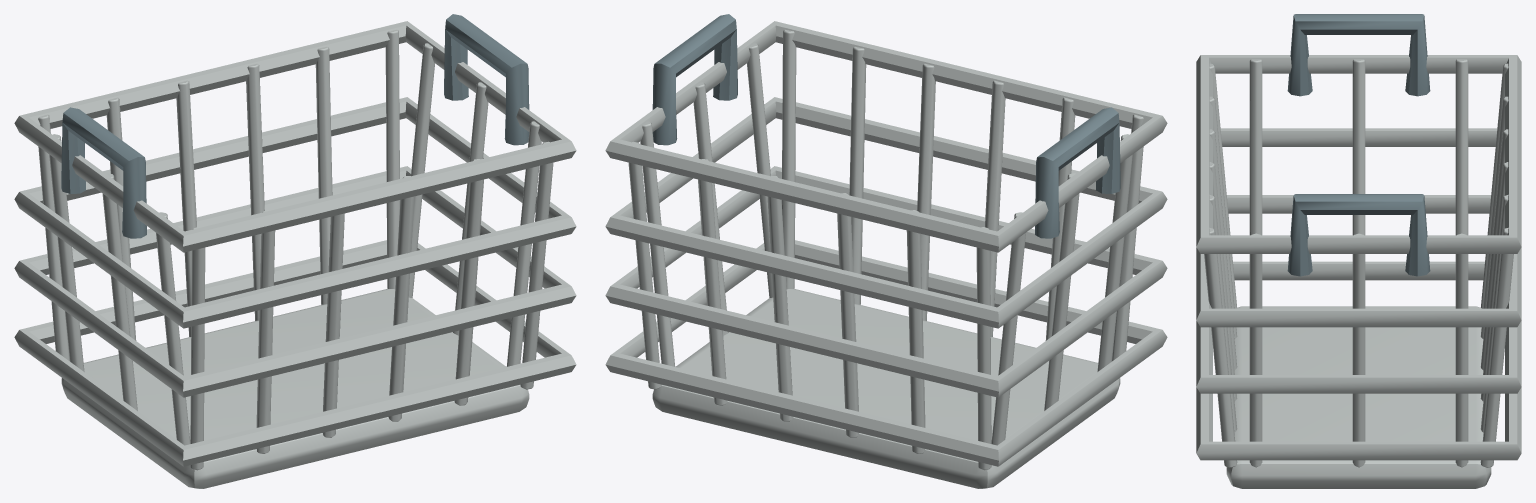
The model's file is laundry-basket.glb.
3 views of the same model, side by side, from view 1: azimuth 30°, elevation 25°; view 2: azimuth 150°, elevation 25°; view 3: azimuth 270°, elevation 25° (orthographic). The views are drawn at different scales.
Parts seen in each view (by area): view 1: basket_bottom, basket_horizontal_hoop.003, basket_horizontal_hoop.002, basket_horizontal_hoop, basket_horizontal_hoop.001, side_handle, side_handle.001, basket_upright.010, basket_upright.008, basket_upright.006, basket_upright.004, basket_end_upright.005 (+13 smaller); view 2: basket_bottom, basket_horizontal_hoop.003, basket_horizontal_hoop.002, basket_horizontal_hoop, basket_horizontal_hoop.001, side_handle, side_handle.001, basket_upright.011, basket_upright.009, basket_upright.007, basket_upright.005, basket_end_upright.001 (+13 smaller); view 3: basket_bottom, basket_horizontal_hoop.003, basket_horizontal_hoop.002, basket_horizontal_hoop, basket_horizontal_hoop.001, side_handle.001, side_handle, basket_end_upright, basket_end_upright.004, basket_upright.010, basket_upright.011, basket_end_upright.001 (+13 smaller).
Part boxes in pixels (bbox=[...]): basket_bottom: bbox=[61, 289, 529, 488]; basket_horizontal_hoop.003: bbox=[14, 21, 576, 252]; basket_horizontal_hoop.002: bbox=[14, 97, 576, 328]; basket_horizontal_hoop: bbox=[14, 240, 576, 466]; basket_horizontal_hoop.001: bbox=[14, 166, 576, 397]; side_handle: bbox=[61, 107, 146, 238]; side_handle.001: bbox=[444, 14, 529, 145]; basket_upright.010: bbox=[385, 29, 400, 289]; basket_upright.008: bbox=[315, 46, 332, 304]; basket_upright.006: bbox=[246, 63, 264, 320]; basket_upright.004: bbox=[176, 80, 196, 336]; basket_end_upright.005: bbox=[506, 121, 541, 366]; basket_bottom: bbox=[652, 289, 1120, 488]; basket_horizontal_hoop.003: bbox=[605, 21, 1167, 252]; basket_horizontal_hoop.002: bbox=[605, 97, 1167, 328]; basket_horizontal_hoop: bbox=[605, 240, 1167, 466]; basket_horizontal_hoop.001: bbox=[605, 166, 1167, 397]; side_handle: bbox=[1035, 107, 1120, 238]; side_handle.001: bbox=[652, 14, 737, 145]; basket_upright.011: bbox=[781, 29, 796, 289]; basket_upright.009: bbox=[849, 46, 866, 304]; basket_upright.007: bbox=[917, 63, 935, 320]; basket_upright.005: bbox=[985, 80, 1005, 336]; basket_end_upright.001: bbox=[640, 121, 675, 366]; basket_bottom: bbox=[1226, 306, 1491, 488]; basket_horizontal_hoop.003: bbox=[1196, 55, 1521, 253]; basket_horizontal_hoop.002: bbox=[1196, 128, 1521, 327]; basket_horizontal_hoop: bbox=[1196, 261, 1521, 460]; basket_horizontal_hoop.001: bbox=[1196, 195, 1521, 393]; side_handle.001: bbox=[1287, 194, 1430, 276]; side_handle: bbox=[1287, 14, 1430, 96]; basket_end_upright: bbox=[1455, 59, 1468, 235]; basket_end_upright.004: bbox=[1249, 59, 1262, 235]; basket_upright.010: bbox=[1480, 227, 1513, 467]; basket_upright.011: bbox=[1204, 227, 1237, 467]; basket_end_upright.001: bbox=[1455, 233, 1468, 467].
Bounding box in the file's own units: 0.614 × 0.4644 × 0.4427.
